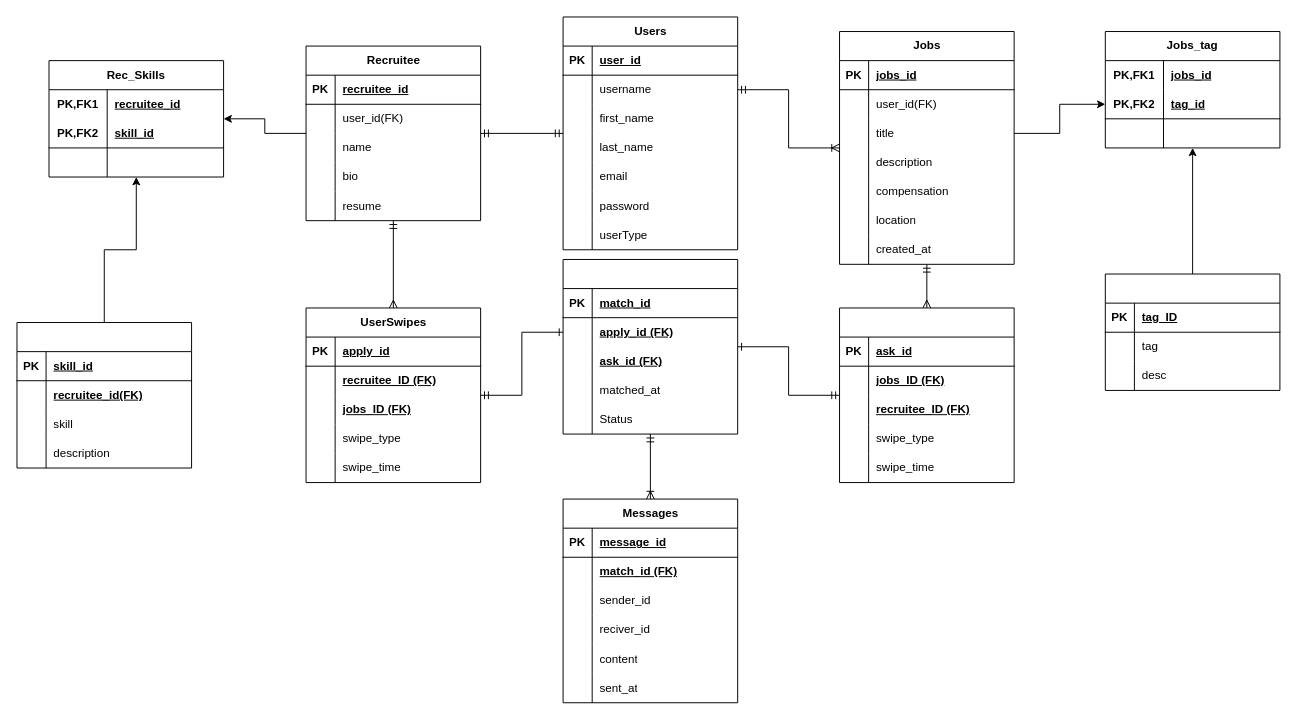
This 1297x720 diagram has some shape labels left out. The shapes that lost their labels are listed below. From the top down, each one's box as (x1, y1, x2, y2) in pixels, then its label:
(562, 259, 738, 434): Matches
(1104, 273, 1280, 390): tags
(16, 322, 192, 468): Skills
(839, 307, 1014, 483): RecruiterSwipes
